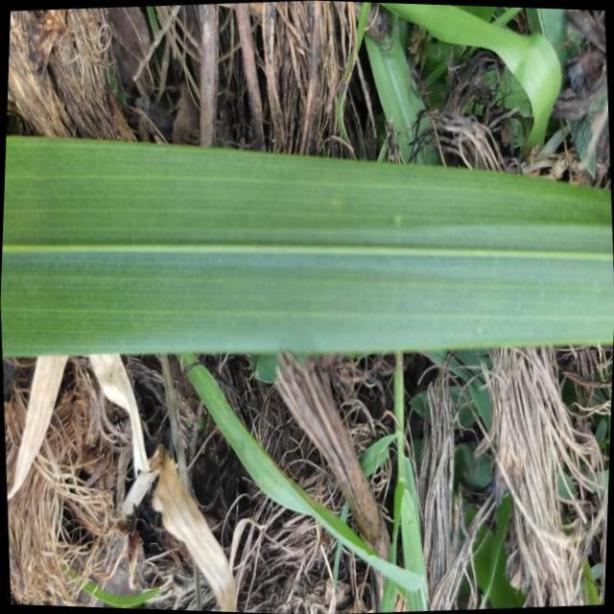Healthy: (0, 133, 614, 358)
